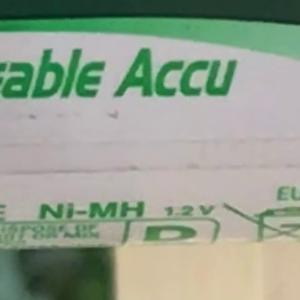keyword: (30, 193, 126, 228)
